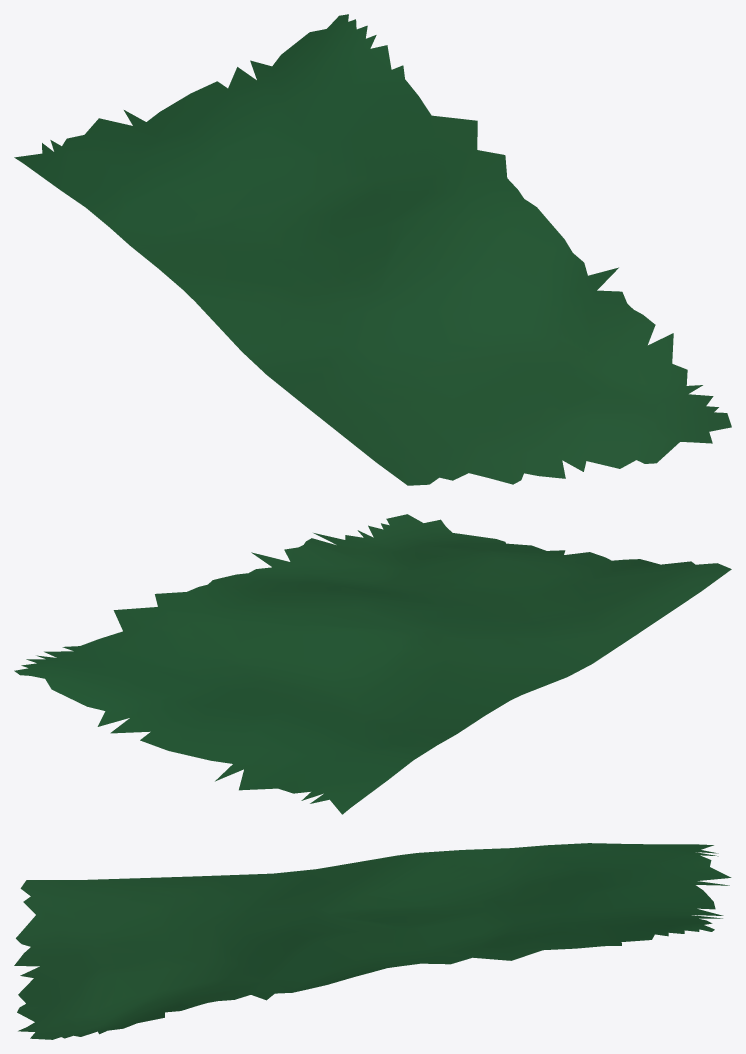
File: payo_land_x4_y4_lod1.glb
3 renders of one model, top to bottom at view 1: azimuth 30°, elevation 25°; view 2: azimuth 150°, elevation 25°; view 3: azimuth 270°, elevation 25°, orthographic. The views are drawn at different scales.
Parts seen in each view (by area): view 1: payo_land_x4_y4; view 2: payo_land_x4_y4; view 3: payo_land_x4_y4.
Boxes of the visible parts, <box> form: payo_land_x4_y4: <box>14,14,731,485</box>; payo_land_x4_y4: <box>14,514,731,814</box>; payo_land_x4_y4: <box>14,843,731,1039</box>.
Size of the model in its own units: 132 by 49.18 by 269.
